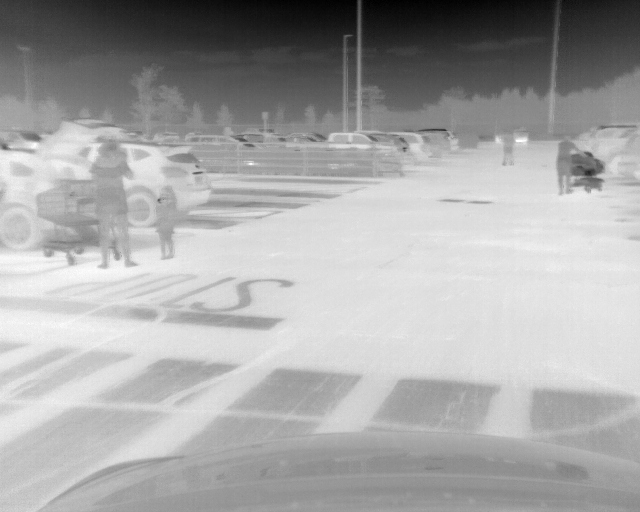car: (84, 140, 216, 225), (1, 149, 99, 249), (326, 131, 406, 175), (580, 123, 632, 158), (612, 131, 640, 183), (400, 131, 437, 166), (426, 129, 460, 157), (495, 127, 530, 144)
people: (85, 140, 135, 269), (154, 185, 175, 261), (554, 137, 581, 195), (499, 131, 515, 165)
